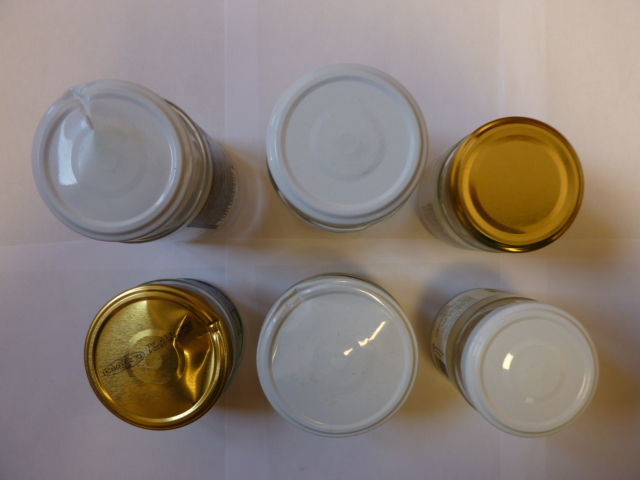damaged: (256, 277, 418, 437), (29, 78, 189, 240)
intact: (265, 64, 424, 223), (450, 114, 585, 251)
